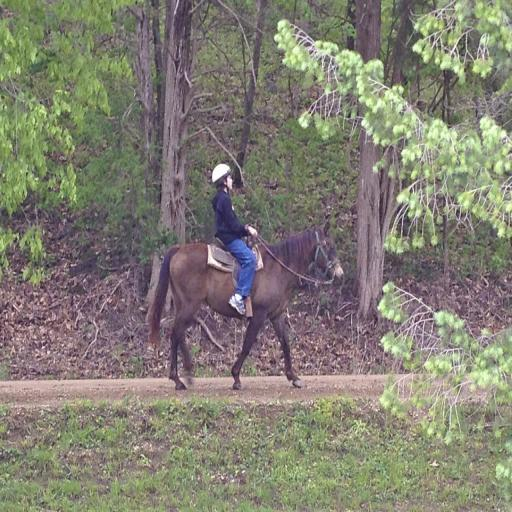horse: (144, 212, 346, 393)
